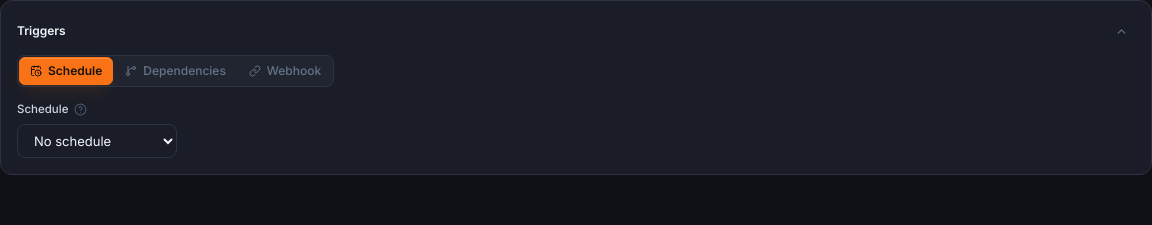
Test: TriggersCard › switches to the Webhook tab and loads tokens for an existing pipeline
Click the button with test id "triggers-tab-webhook" at (285, 71), box [238, 57, 332, 85]
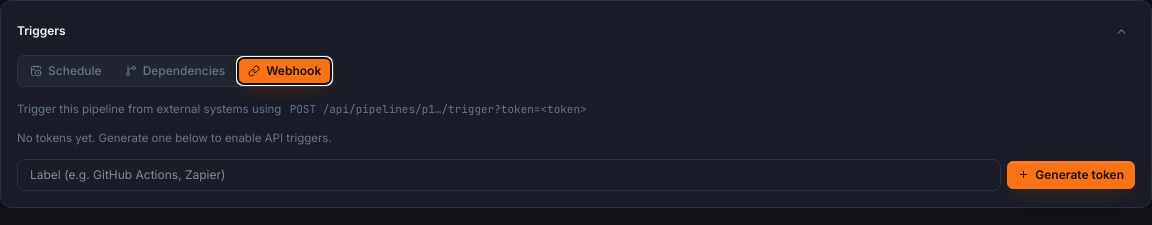
Expected: the text "No tokens yet. Generate one below to enable API triggers." is shown, [17, 131, 332, 145]
